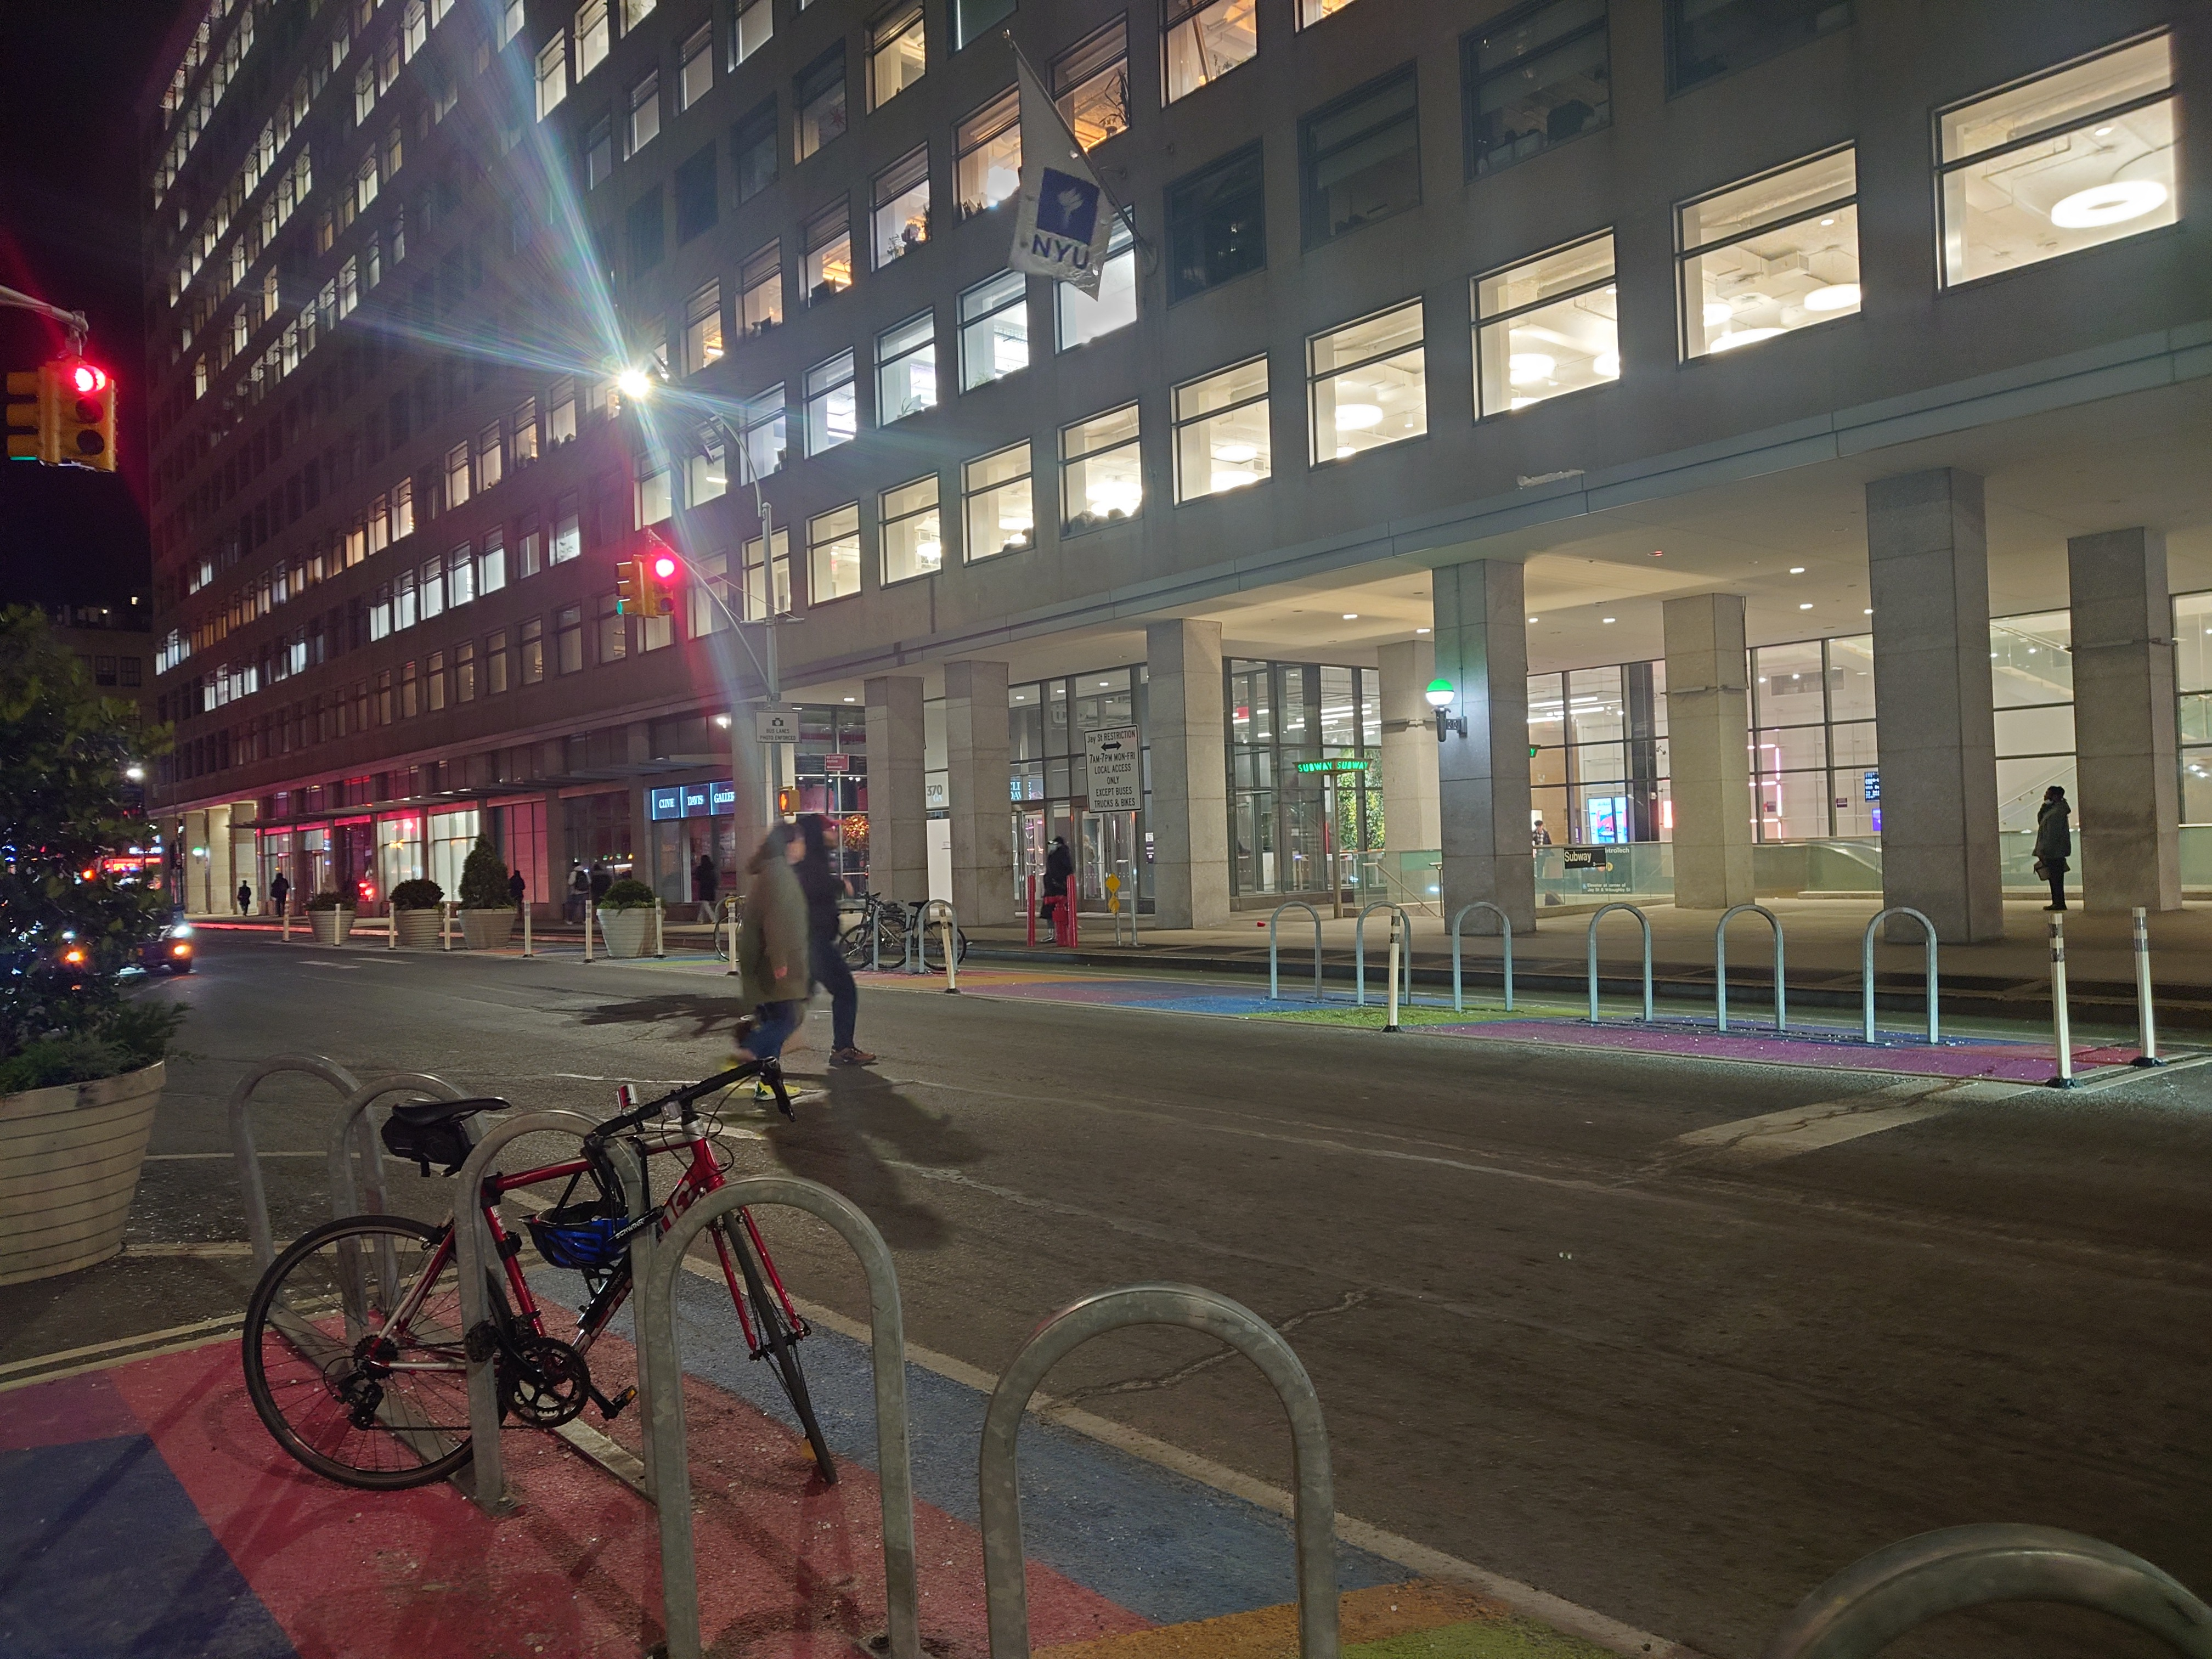car: (45, 866, 194, 990)
person: (746, 822, 813, 1116), (2034, 785, 2072, 913), (1039, 838, 1076, 944), (693, 855, 718, 926), (1530, 820, 1553, 881), (569, 862, 589, 924), (507, 870, 526, 920), (592, 864, 611, 908), (272, 872, 289, 918), (235, 882, 252, 917)
